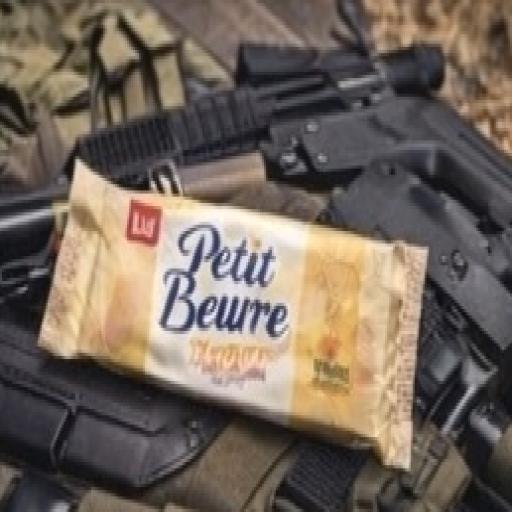petit_beurre: (23, 116, 451, 508)
